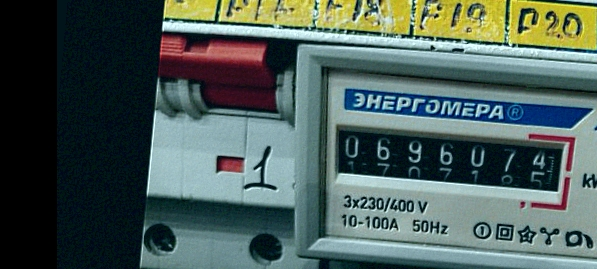0: (342, 133, 364, 160), (469, 142, 488, 170)
4: (531, 147, 549, 170)
5: (529, 170, 547, 191)
6: (437, 139, 458, 168), (374, 135, 395, 162)
7: (501, 146, 519, 174)
9: (406, 137, 425, 165)
screen: (321, 112, 581, 215)
